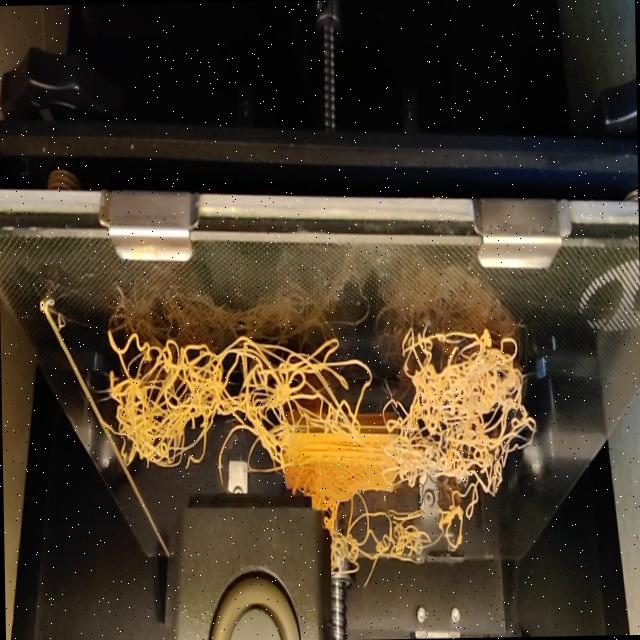spaghetti: (104, 301, 540, 495), (328, 480, 502, 594)
